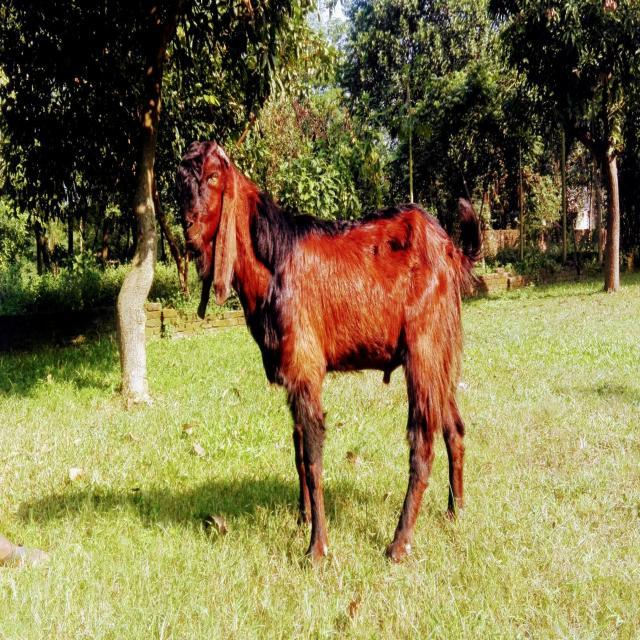Goat: (176, 138, 488, 566)
